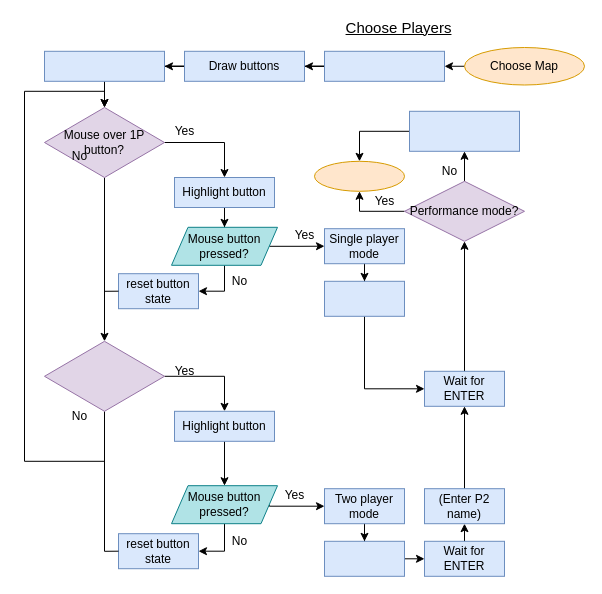
Some shapes in this 602 by 594 pixel diagram are drawn without their labels. Each missing label, with the box of its shape:
(Enter P1 name): (324, 540, 404, 576)
(enter player name): (324, 280, 404, 316)
Choose Vehicle: (314, 160, 404, 191)
Draw background: (324, 50, 444, 81)
Draw car sprite: (44, 50, 164, 81)
Mouse over 2P button?: (44, 340, 164, 411)
Window + car animation(s): (408, 110, 520, 151)
